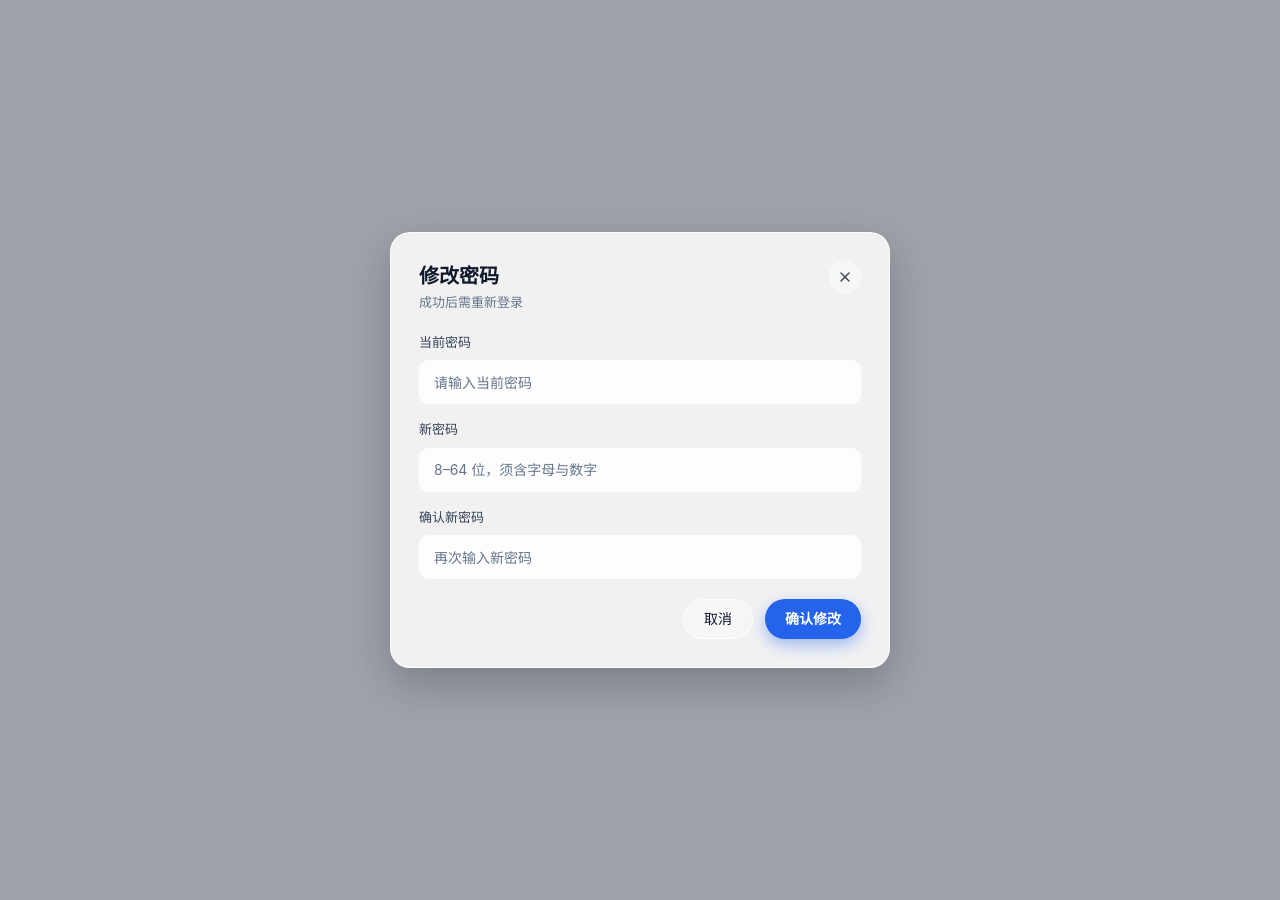
Test: ChangePasswordModal › shows business error in modal
The width and height of the screenshot is (1280, 900).
Type "bad" into the password field labelled "当前密码".
click(640, 382); type("bad")  # box left=419, top=360, right=861, bottom=404
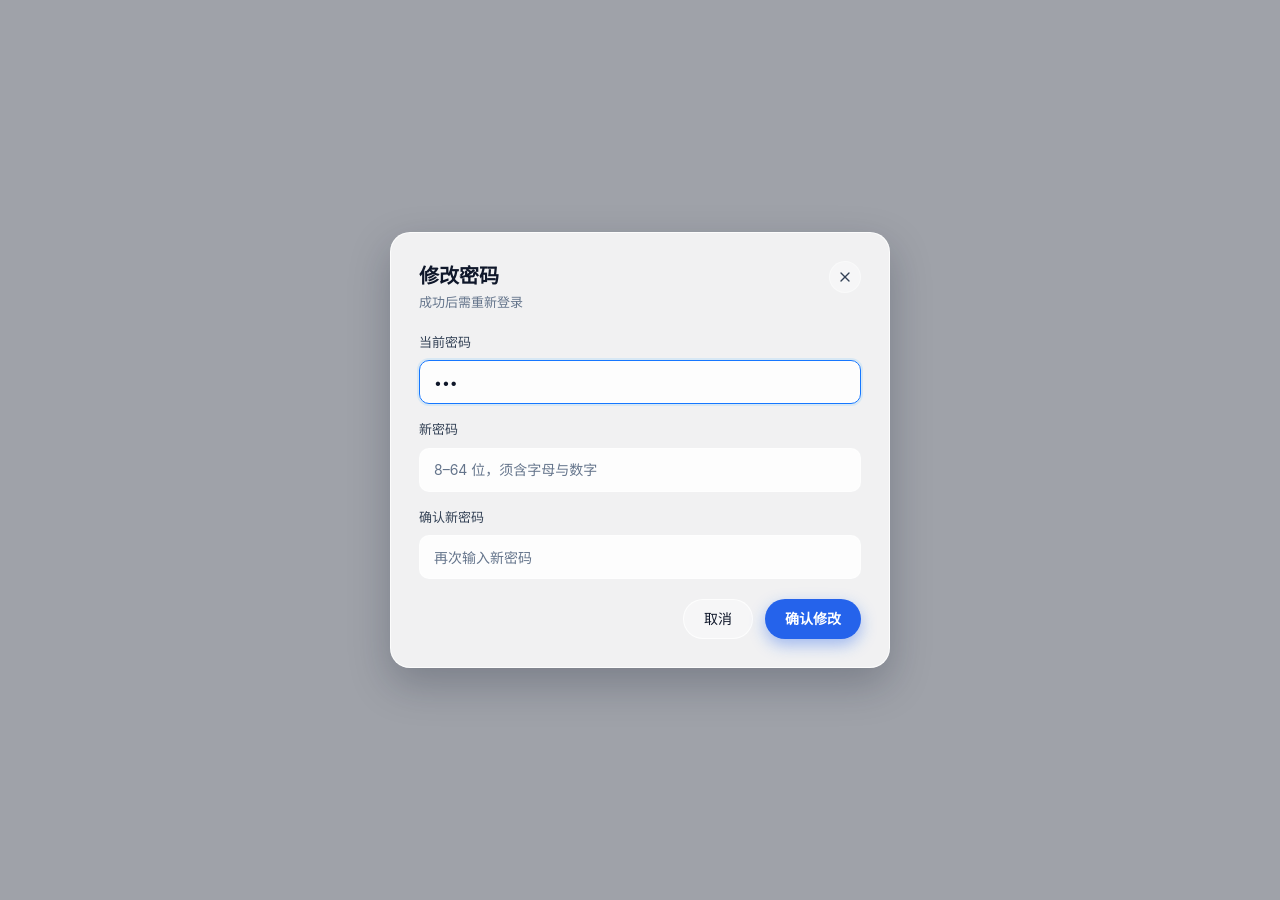
Type "NewPass1234" into the password field labelled "新密码".
click(640, 470); type("NewPass1234")  # box left=419, top=448, right=861, bottom=492
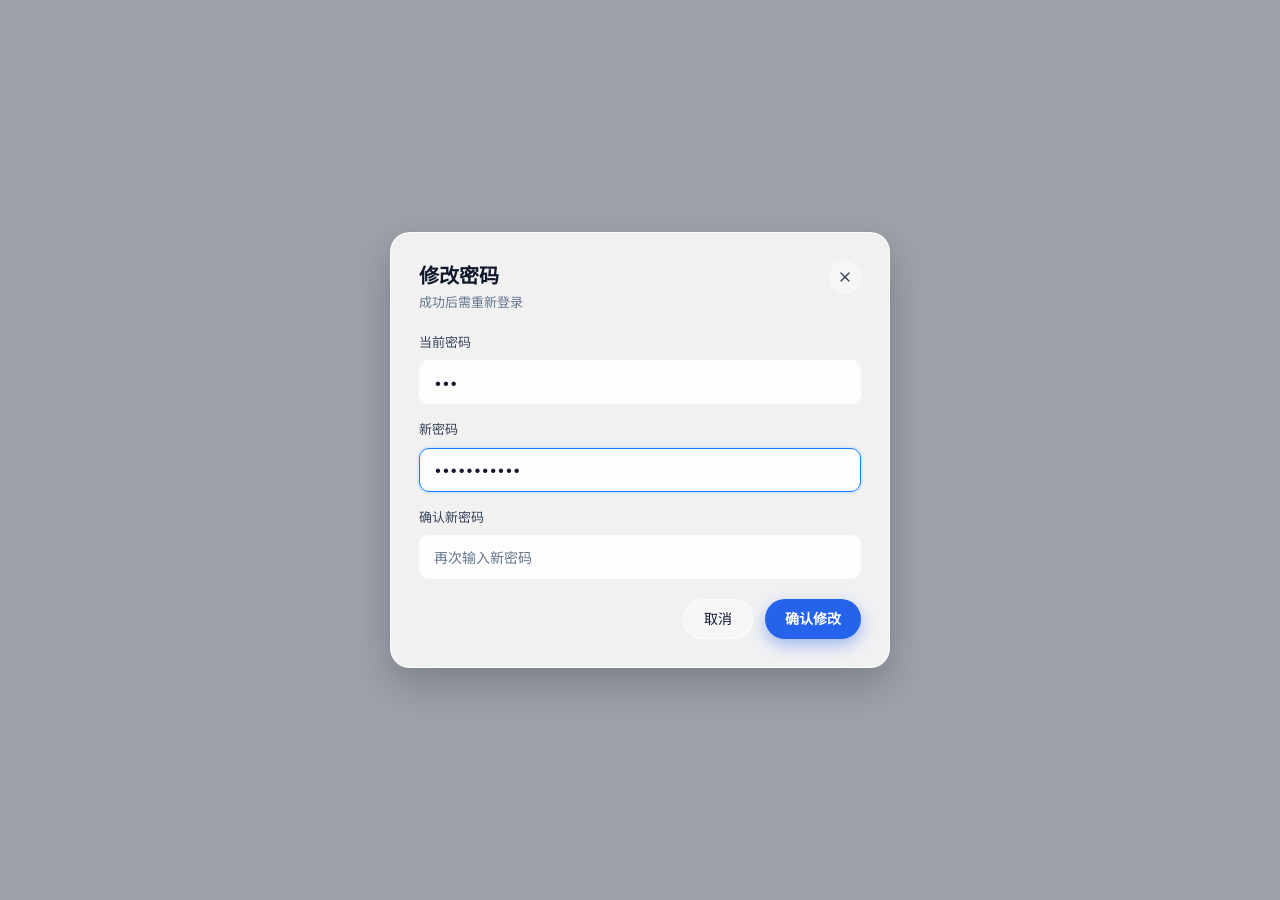
Type "NewPass1234" into the password field labelled "确认新密码".
click(640, 557); type("NewPass1234")  # box left=419, top=535, right=861, bottom=579
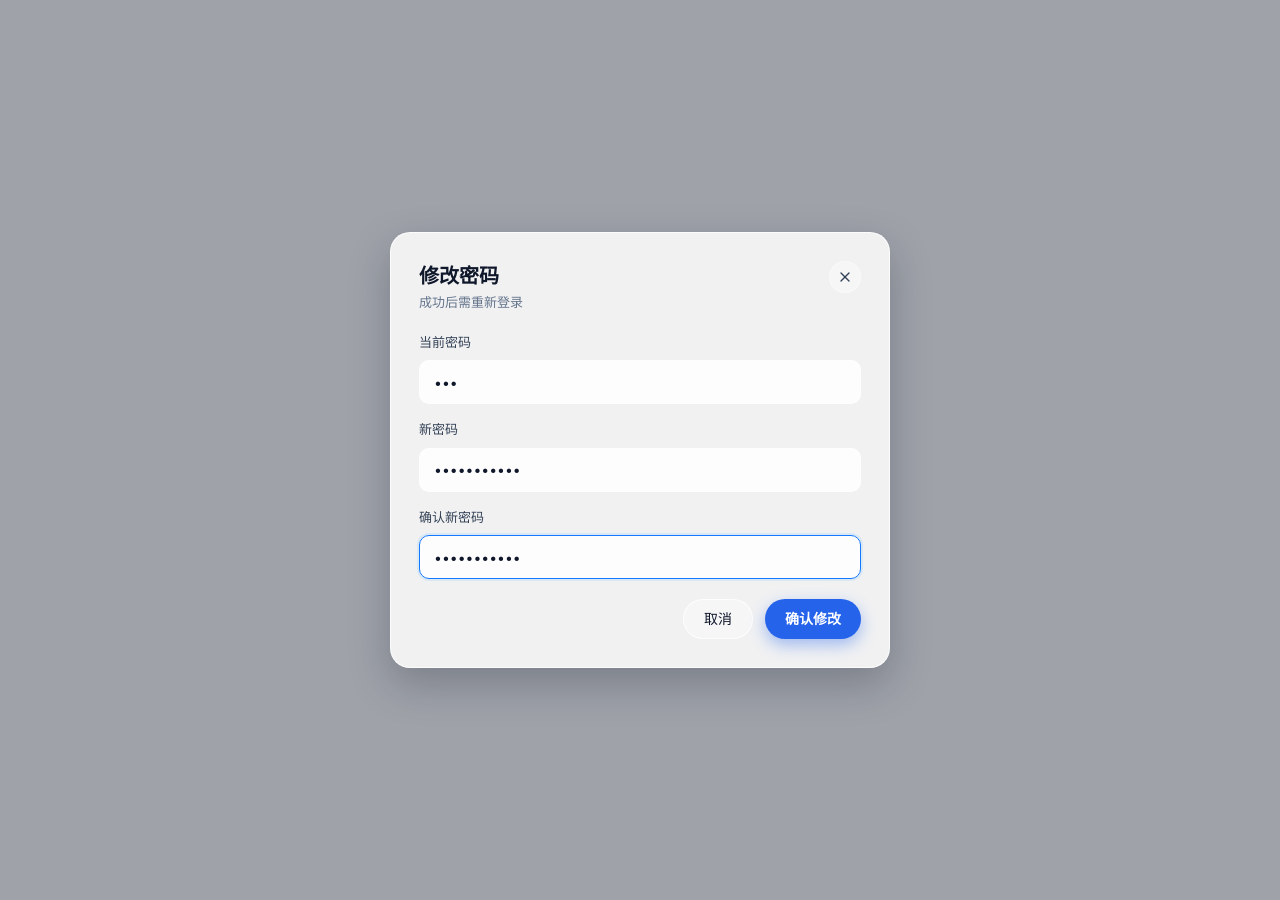
Click the button "确认修改".
click(813, 619)  # box left=765, top=599, right=861, bottom=639
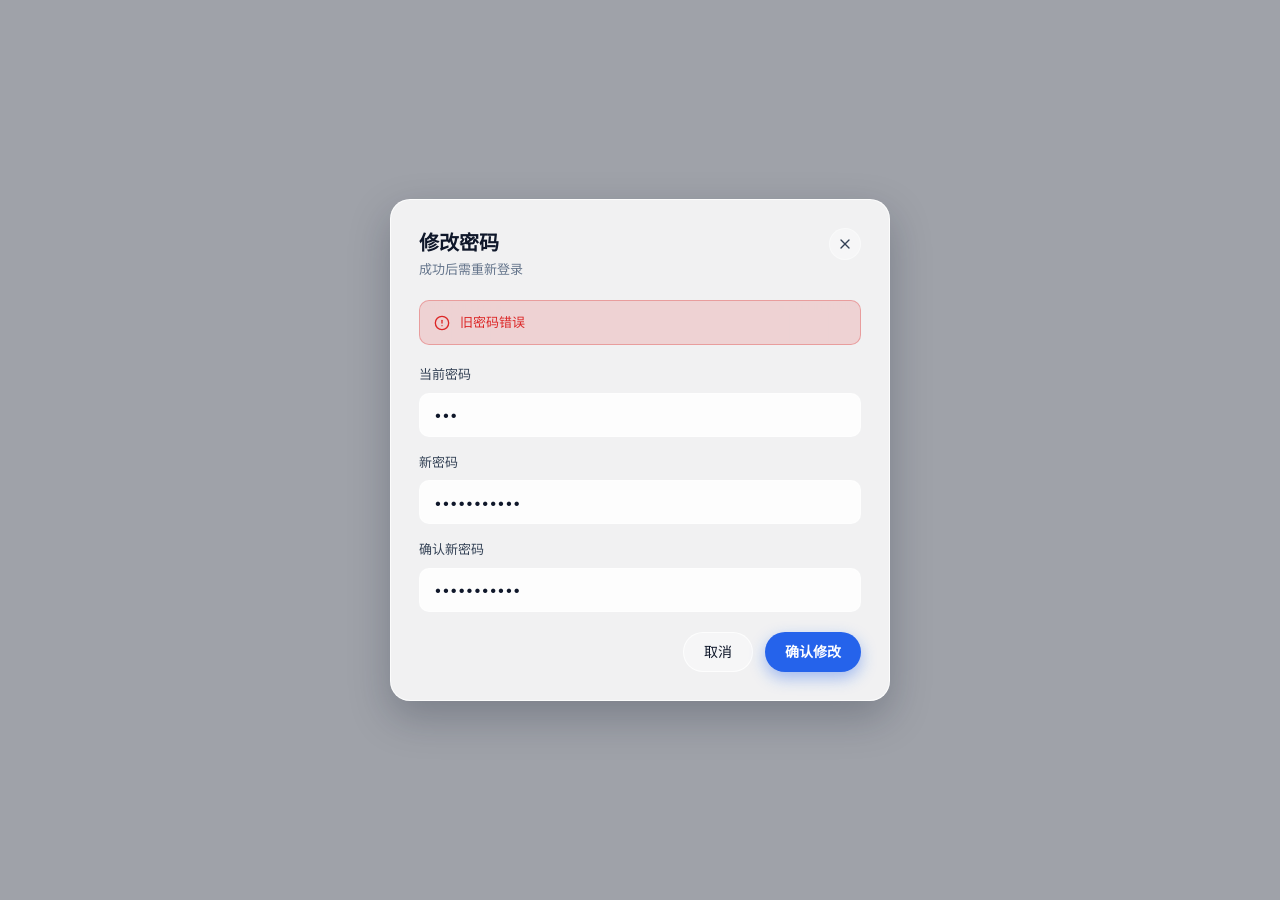
Check: the message reads "旧密码错误", box left=460, top=314, right=525, bottom=330
